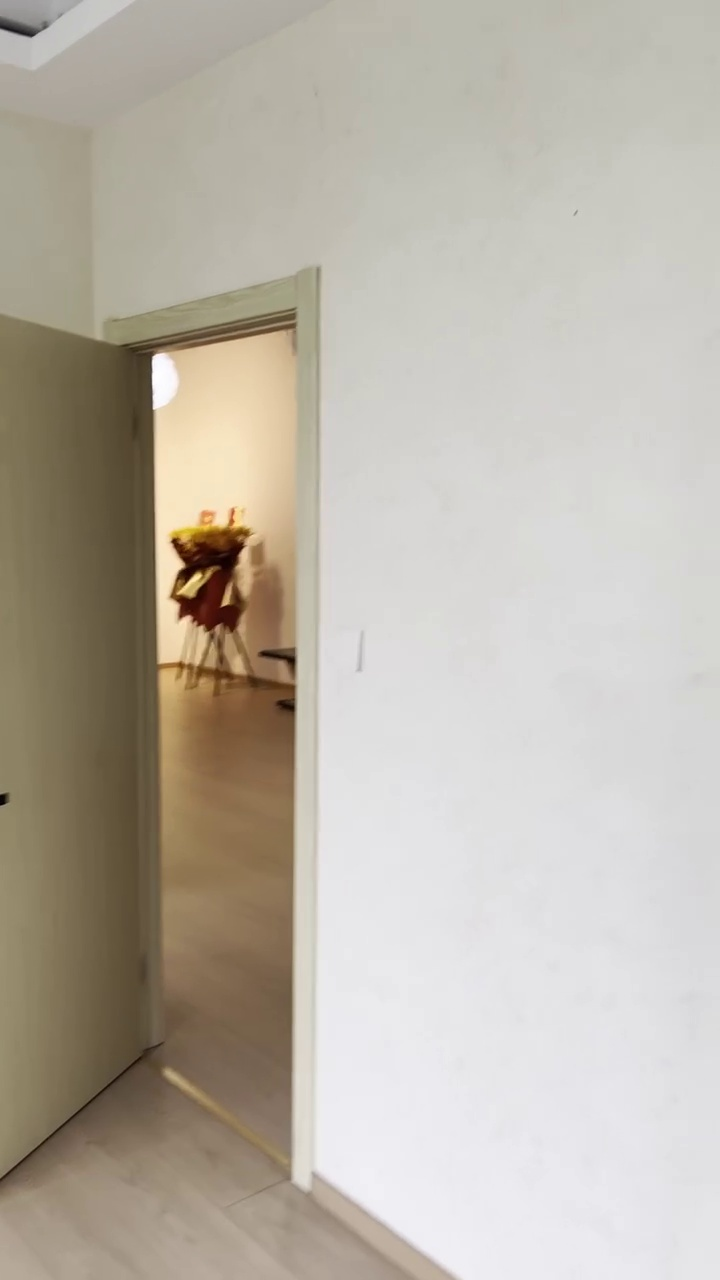button: (328, 624, 368, 677)
